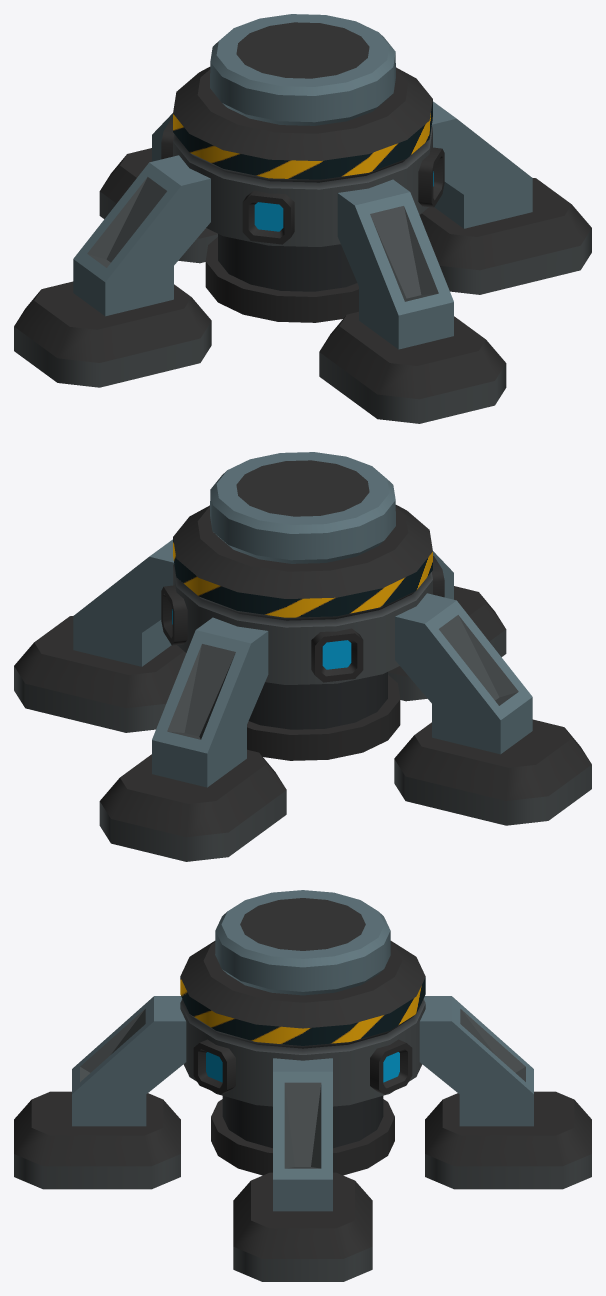
File: Turret_009.fbx
The picture shows the model from 3 angles, top to bottom: view 1: azimuth 30°, elevation 25°; view 2: azimuth 150°, elevation 25°; view 3: azimuth 270°, elevation 25°; orthographic projection. The views are drawn at different scales.
Parts seen in each view (by area): view 1: Turret_009; view 2: Turret_009; view 3: Turret_009.
Part boxes in pixels (x1,y1,x2,y2): Turret_009: (14, 14, 591, 423); Turret_009: (14, 452, 591, 861); Turret_009: (14, 890, 591, 1281).
Bounding box in the file's own units: 141 × 141 × 63.53.
